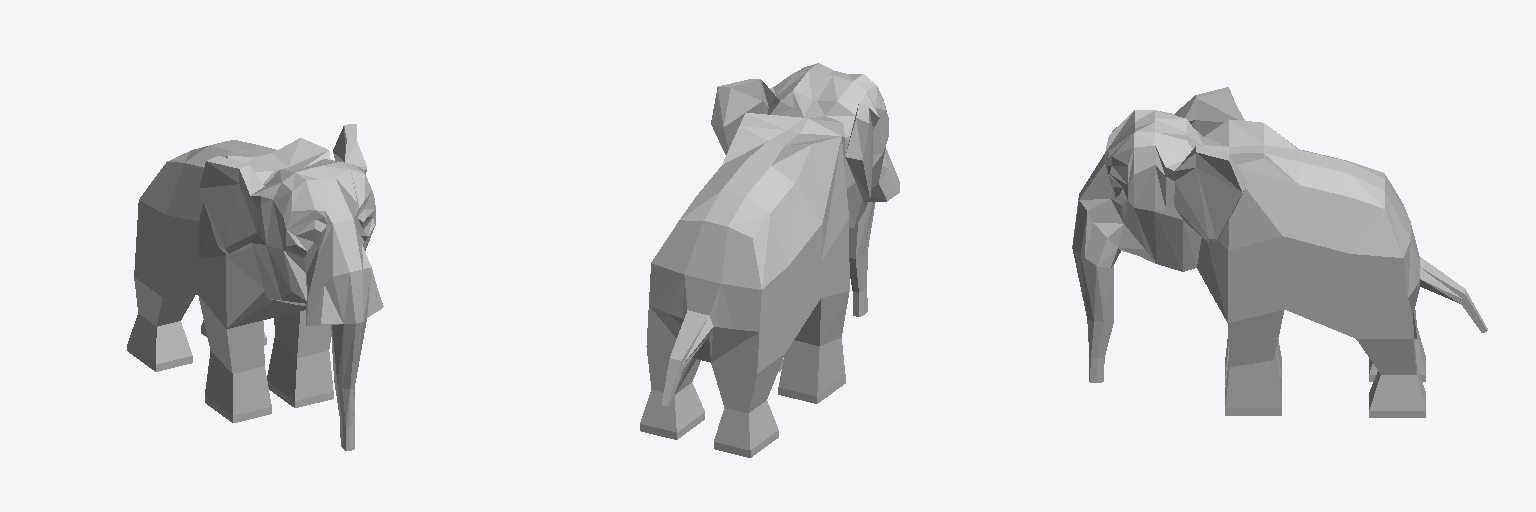
The model's file is Elephant_Checkpoint.obj.
The picture shows the model from 3 angles: view 1: azimuth 30°, elevation 25°; view 2: azimuth 150°, elevation 25°; view 3: azimuth 270°, elevation 25°; orthographic projection.
Visible parts, largest first — view 1: Elephant_mesh; view 2: Elephant_mesh; view 3: Elephant_mesh.
Part boxes in pixels (bbox=[...]): Elephant_mesh: bbox=[127, 124, 383, 450]; Elephant_mesh: bbox=[640, 63, 899, 457]; Elephant_mesh: bbox=[1072, 87, 1487, 417].
Bounding box in the file's own units: 3.95 × 6.74 × 9.36.